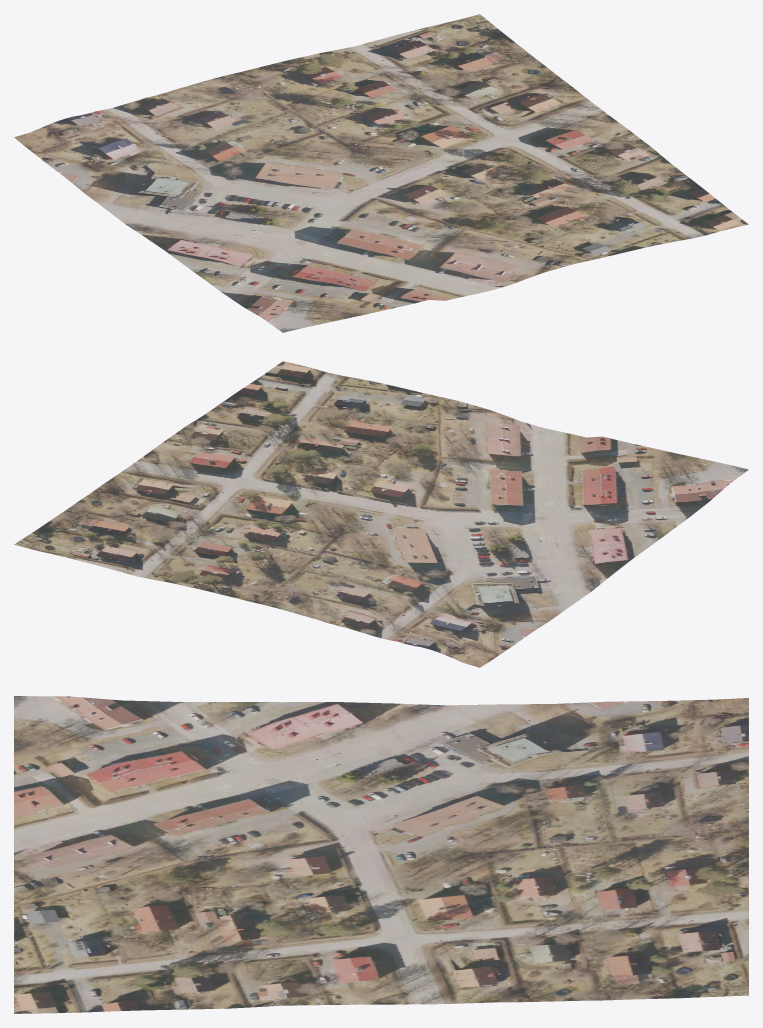
The model's file is CM_Terrain_24490254_6821227.fbx.
3 renders of one model, top to bottom at view 1: azimuth 30°, elevation 25°; view 2: azimuth 150°, elevation 25°; view 3: azimuth 270°, elevation 25°, orthographic. The views are drawn at different scales.
Parts seen in each view (by area): view 1: CM_Terrain_24490254_6821227_LOD0; view 2: CM_Terrain_24490254_6821227_LOD0; view 3: CM_Terrain_24490254_6821227_LOD0.
Part boxes in pixels (x1,y1,x2,y2): CM_Terrain_24490254_6821227_LOD0: (14, 14, 748, 332); CM_Terrain_24490254_6821227_LOD0: (14, 361, 748, 667); CM_Terrain_24490254_6821227_LOD0: (14, 696, 748, 1013).
Size of what is drawn, in the model's own units: 205 by 7.25 by 205.
